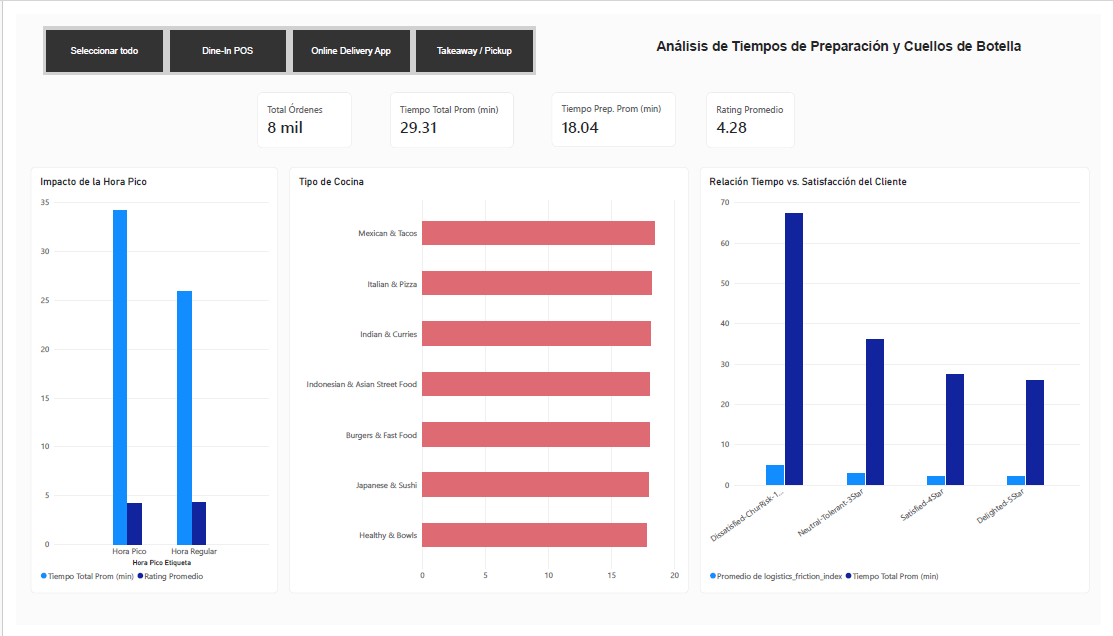

This screenshot's page, from the dashboard's own definition file:
{"tool":"powerbi","page":{"name":"2. Cuello de Botella Operativo","canvas":[1920,1080],"ordinal":1},"visuals":[{"type":"textbox","box":[1011.1,41.7,890,44],"z":0},{"type":"slicer","fields":{"Values":["delivery_clean_powerbi.order_channel"]},"box":[25.7,20,912,88],"z":1000},{"type":"cardVisual","fields":{"Data":["_Medidas_Negocio.Total Órdenes"]},"box":[427,138.1,166,98],"z":2000},{"type":"cardVisual","fields":{"Data":["_Medidas_Negocio.Tiempo Total Prom (min)"]},"box":[661.9,138.1,218,98],"z":3000},{"type":"cardVisual","fields":{"Data":["_Medidas_Negocio.Rating Promedio"]},"box":[1222.2,138.1,156,98],"z":4000},{"type":"clusteredColumnChart","title":"Impacto de la Hora Pico","fields":{"Category":["delivery_clean_powerbi.Hora Pico Etiqueta"],"Y":["_Medidas_Negocio.Tiempo Total Prom (min)","_Medidas_Negocio.Rating Promedio"]},"box":[25,270,437.5,755],"z":5000},{"type":"clusteredBarChart","title":"Tipo de Cocina","fields":{"Category":["delivery_clean_powerbi.cuisine_category"],"Y":["Avg(delivery_clean_powerbi.estimated_prep_time_min)"]},"box":[482.5,270,707.5,755],"z":6000},{"type":"clusteredColumnChart","title":"Relación Tiempo vs. Satisfacción del Cliente","fields":{"Category":["delivery_clean_powerbi.customer_satisfaction_tier"],"Y":["Avg(delivery_clean_powerbi.logistics_friction_index)","_Medidas_Negocio.Tiempo Total Prom (min)"]},"box":[1210,270,690,755],"z":7000},{"type":"cardVisual","fields":{"Data":["Avg(delivery_clean_powerbi.estimated_prep_time_min)"]},"box":[947.6,138.1,219.7,96.1],"z":8001}]}

Visuals, with their boxes in screenshot pixels (x1, y1, x2, y2), scaled from the page's 1920x1080 canvas onto the 1113x636 screenshot:
textbox: [586, 25, 1102, 50]
slicer - delivery_clean_powerbi.order_channel: [15, 12, 544, 64]
cardVisual - _Medidas_Negocio.Total Órdenes: [248, 81, 344, 139]
cardVisual - _Medidas_Negocio.Tiempo Total Prom (min): [384, 81, 510, 139]
cardVisual - _Medidas_Negocio.Rating Promedio: [708, 81, 799, 139]
"Impacto de la Hora Pico" clusteredColumnChart: [14, 159, 268, 604]
"Tipo de Cocina" clusteredBarChart: [280, 159, 690, 604]
"Relación Tiempo vs. Satisfacción del Cliente" clusteredColumnChart: [701, 159, 1101, 604]
cardVisual - Avg(delivery_clean_powerbi.estimated_prep_time_min): [549, 81, 677, 138]
